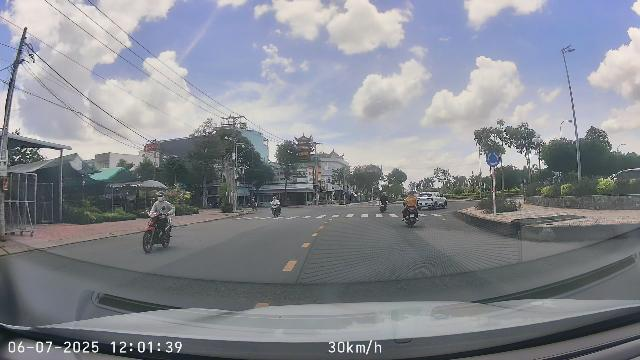303-noi-giao-nhau-chay-theo-vong-xuyen: (486, 151, 500, 167)
